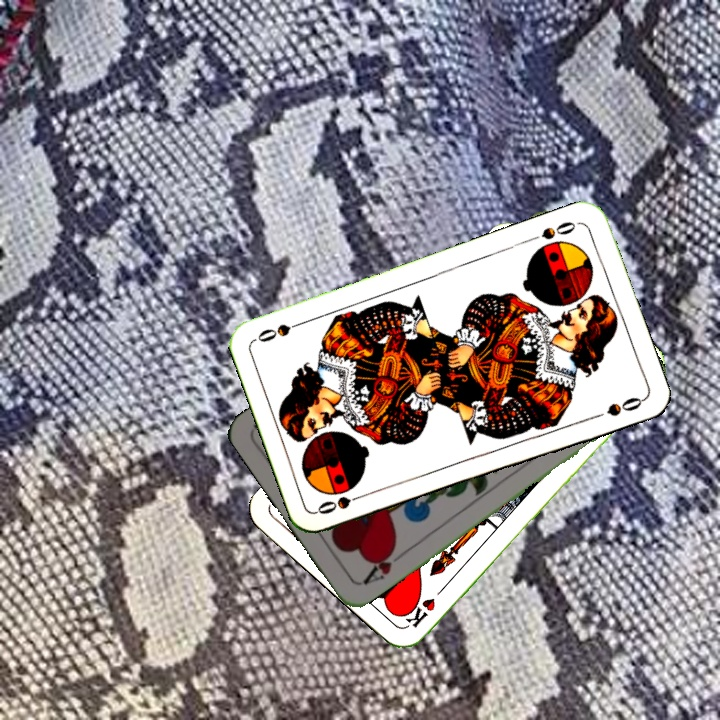HA: (358, 541, 409, 588)
HK: (401, 581, 449, 631)
SO: (313, 488, 371, 517), (537, 217, 582, 243)
